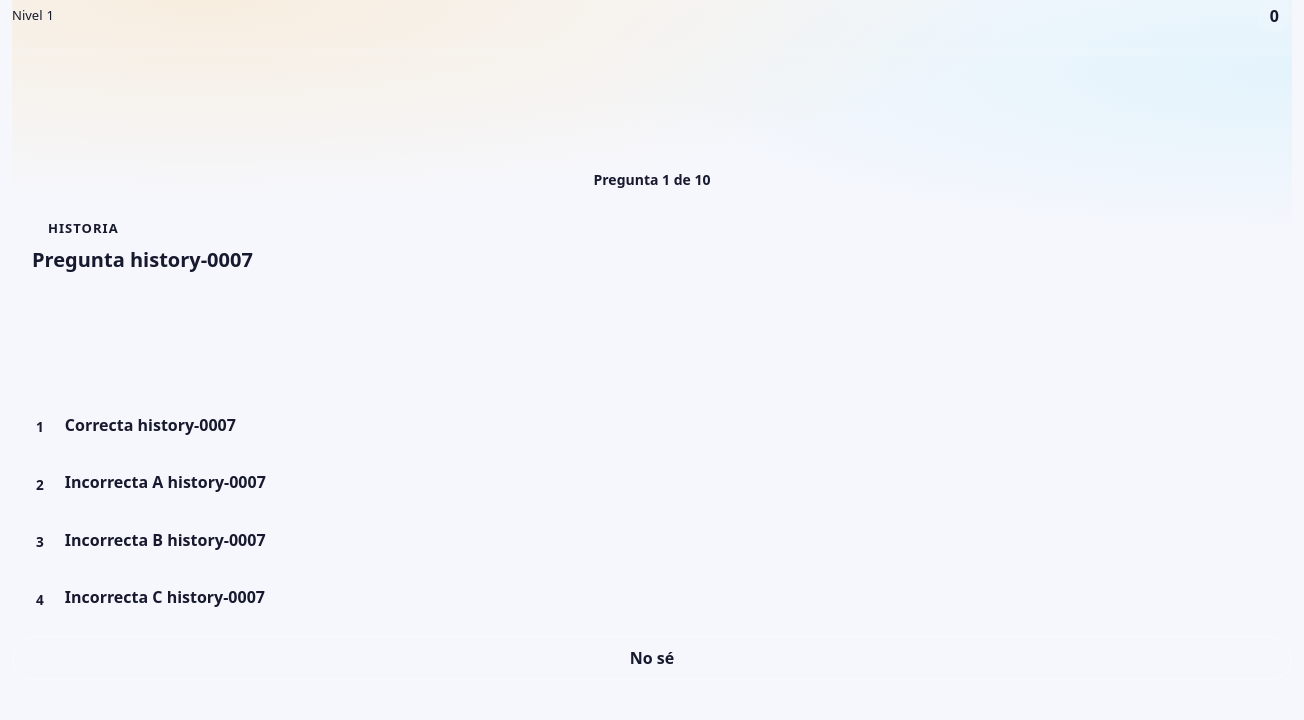
shows the as-of line when a question has asOf
The width and height of the screenshot is (1304, 720).
What coordinates should you click on to do the following:
click the button "1 Correcta history-0007"
I would click on:
 (64, 425)
Its box is [12,403,1292,451].
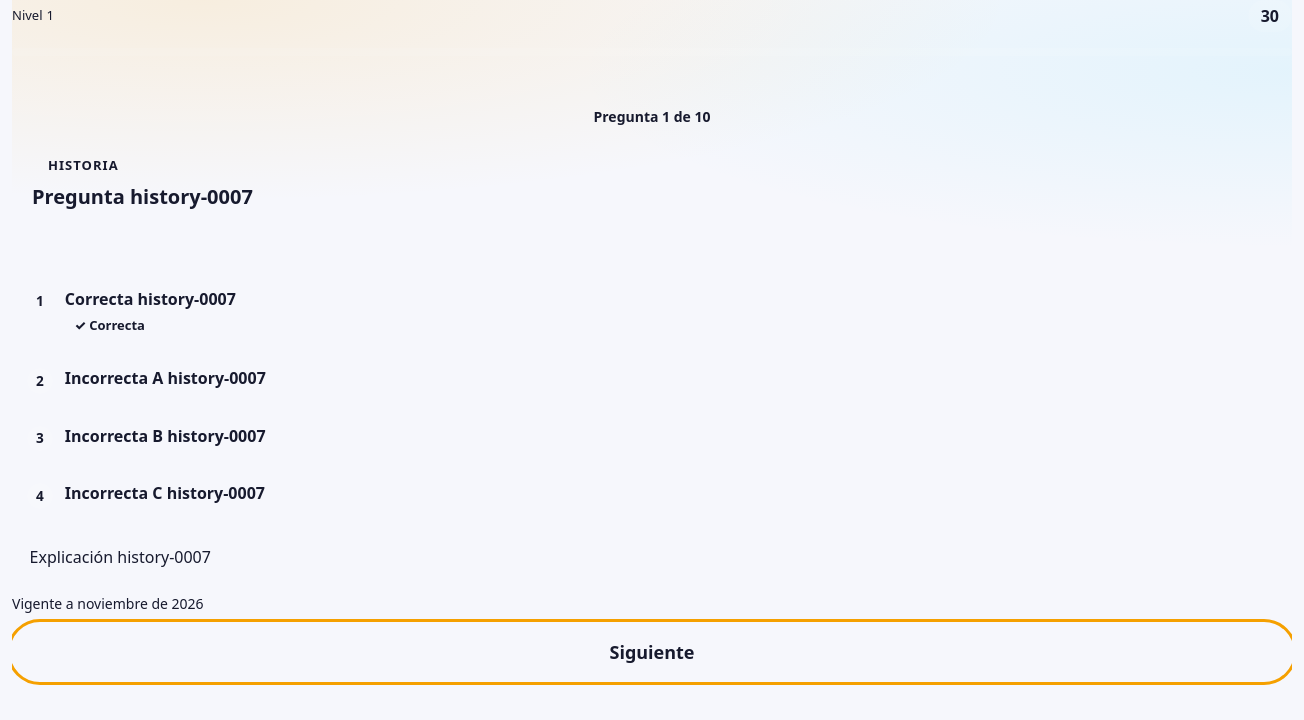
Expected: the text "Vigente a noviembre de 2026" is shown, [12,594,204,613]
